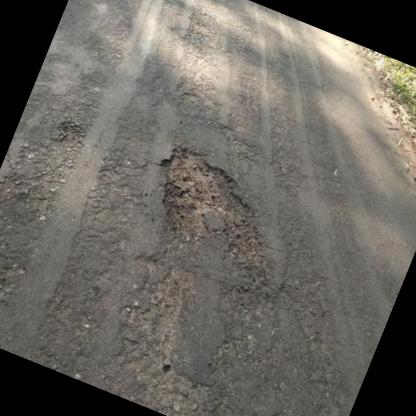pothole: (134, 138, 284, 266), (50, 115, 91, 154)
